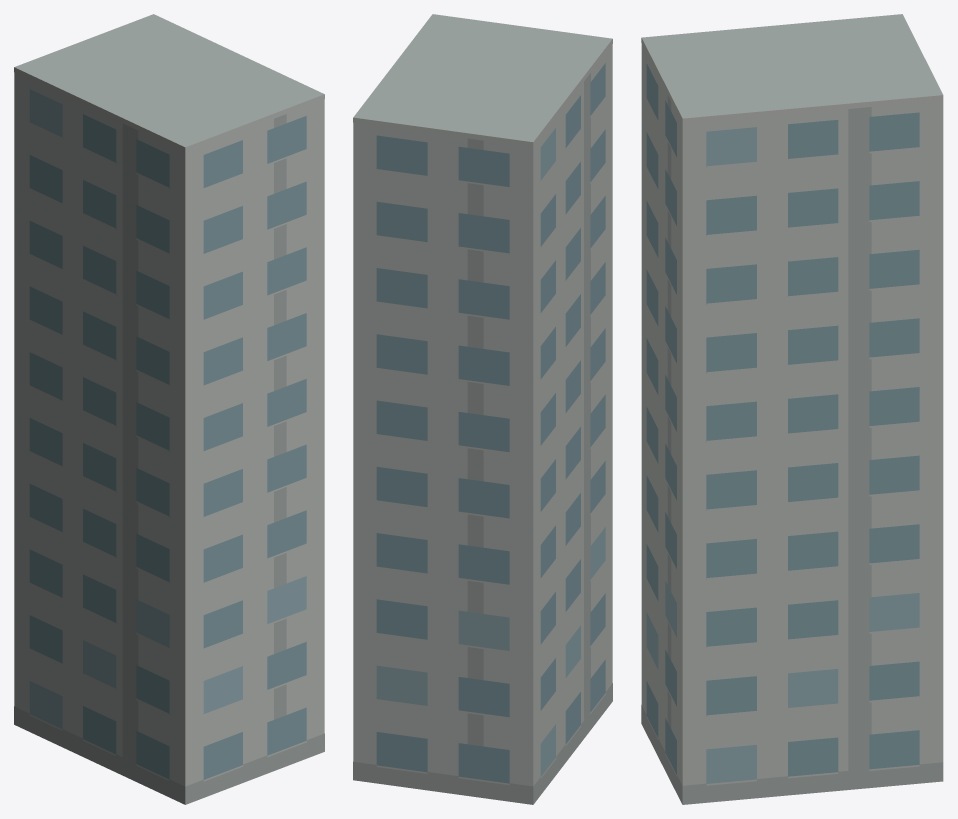
Rendered from residential-787cb255-aae5-492e-af6b-fea7a3c847ff.glb.
The picture shows the model from 3 angles, left to right: view 1: azimuth 30°, elevation 25°; view 2: azimuth 150°, elevation 25°; view 3: azimuth 270°, elevation 25°; orthographic projection. The views are drawn at different scales.
Parts seen in each view (by area): view 1: residential-787cb255-aae5-492e-af6b-fea7a3c847ff.tmp; view 2: residential-787cb255-aae5-492e-af6b-fea7a3c847ff.tmp; view 3: residential-787cb255-aae5-492e-af6b-fea7a3c847ff.tmp.
Part boxes in pixels (x1,y1,x2,y2): residential-787cb255-aae5-492e-af6b-fea7a3c847ff.tmp: [14, 14, 324, 804]; residential-787cb255-aae5-492e-af6b-fea7a3c847ff.tmp: [353, 14, 612, 804]; residential-787cb255-aae5-492e-af6b-fea7a3c847ff.tmp: [641, 14, 943, 804].
Size of the model in its own units: 10.14 by 31 by 12.37.
